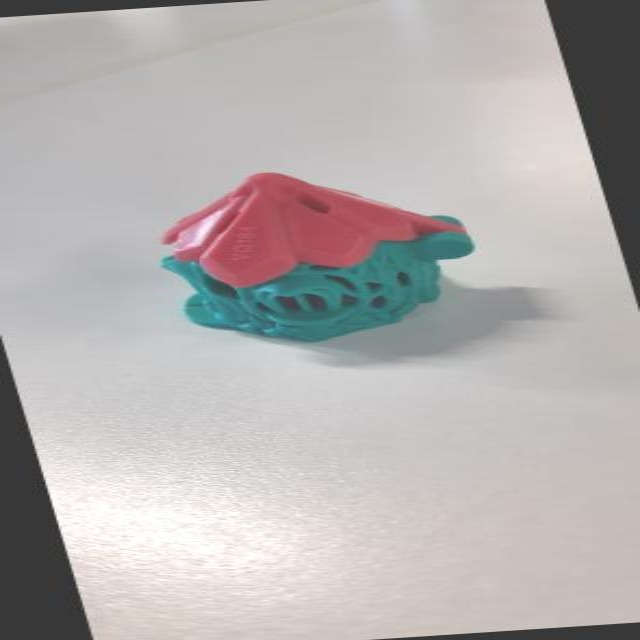House: (111, 150, 514, 362)
